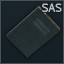SAS drive: (0, 0, 64, 64)
